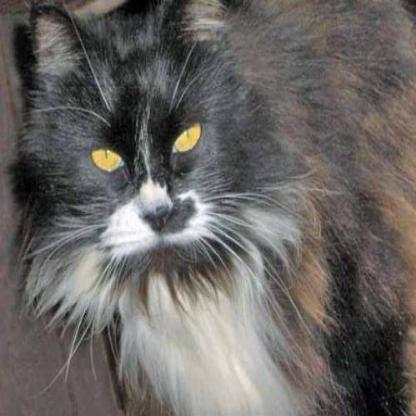cat: (27, 13, 317, 371)
